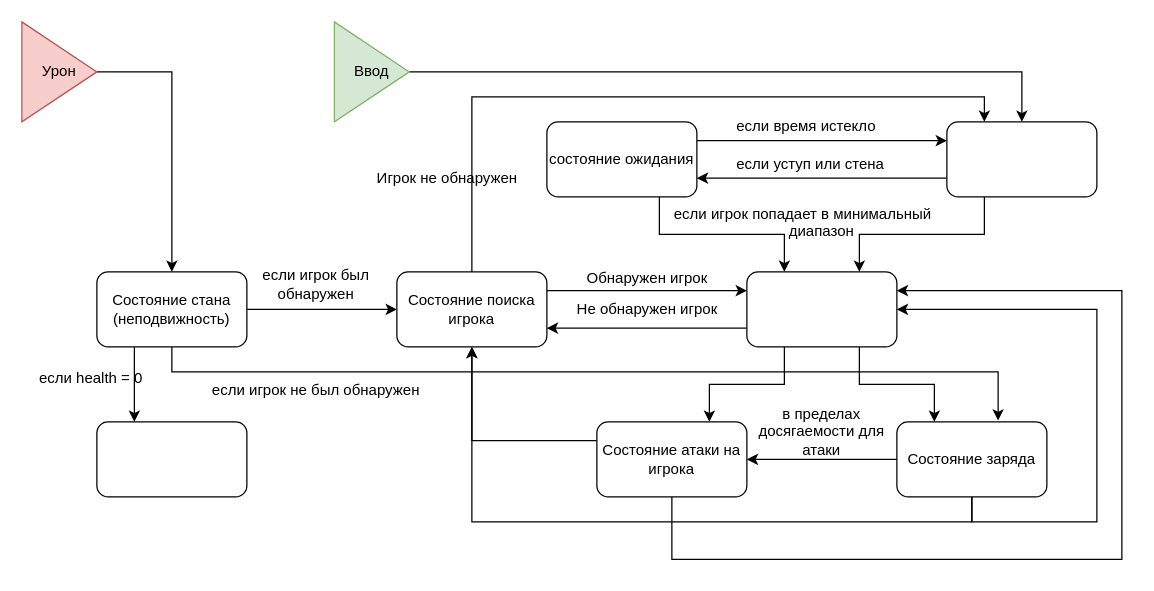
Image size: 1154x591. Some labels were removed from this diagram. Each missing label, with the centre of its shape:
"Движущееся состояние" goes at (1021,159).
"Состояние обнаружение игрока" goes at (821,309).
"Состояние смерти" goes at (171,459).
